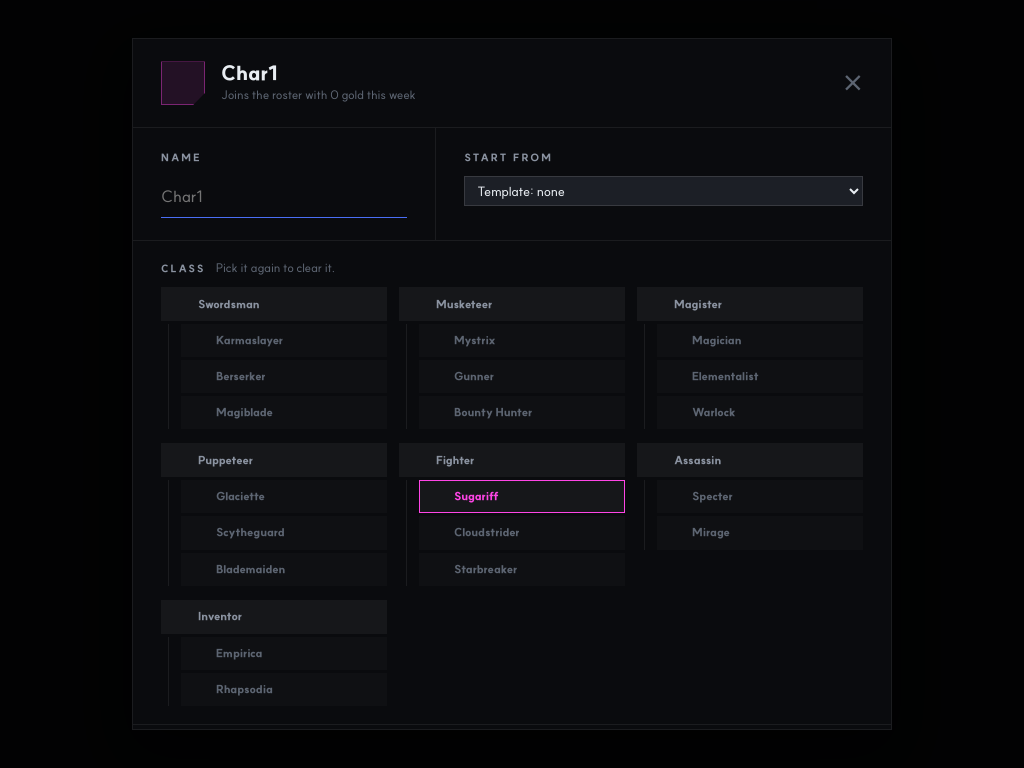
Test: AddCharacterModal › adds the trimmed name
Type "  Rogue " into the field named "New character name" at (284, 197), box [161,176,407,218]
(page scrolled)
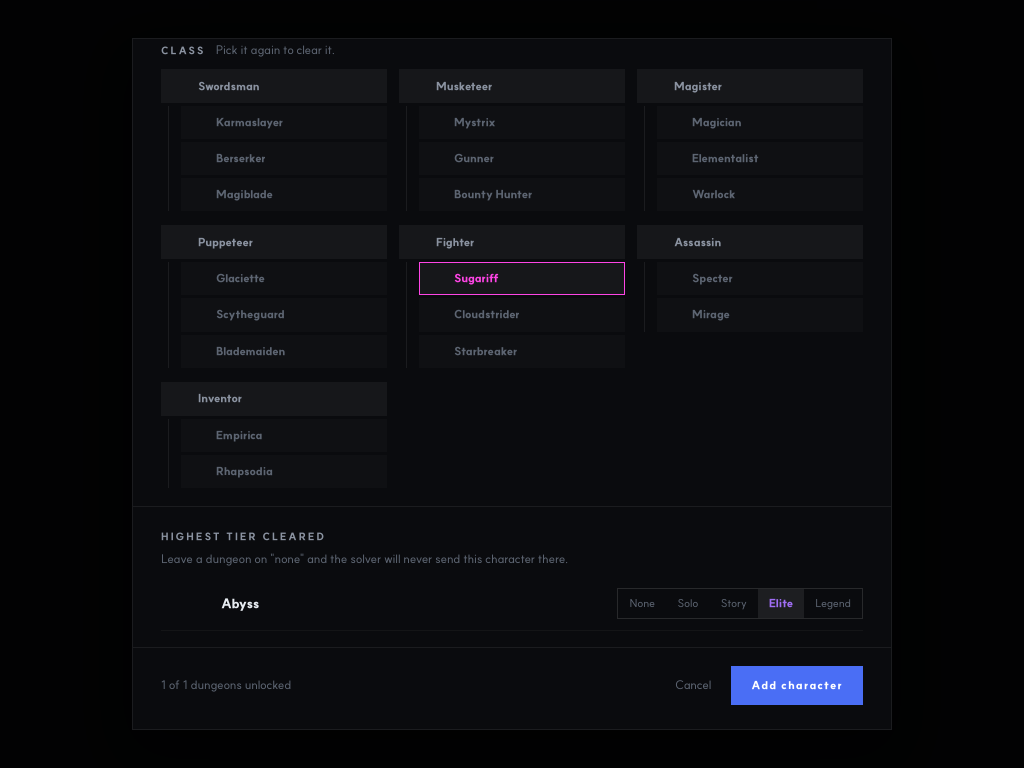
Click the button "Add character" at (797, 685), box [731,666,863,705]
(page scrolled)
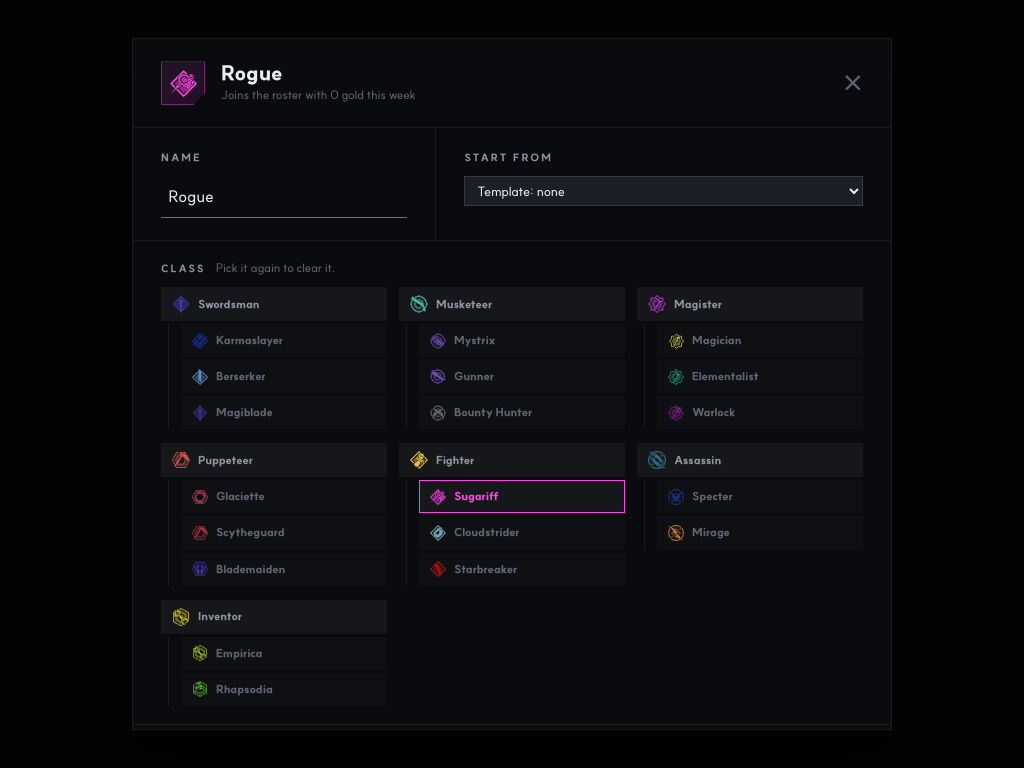
Check: the text "Rogue" is shown, box [221,60,283,85]
